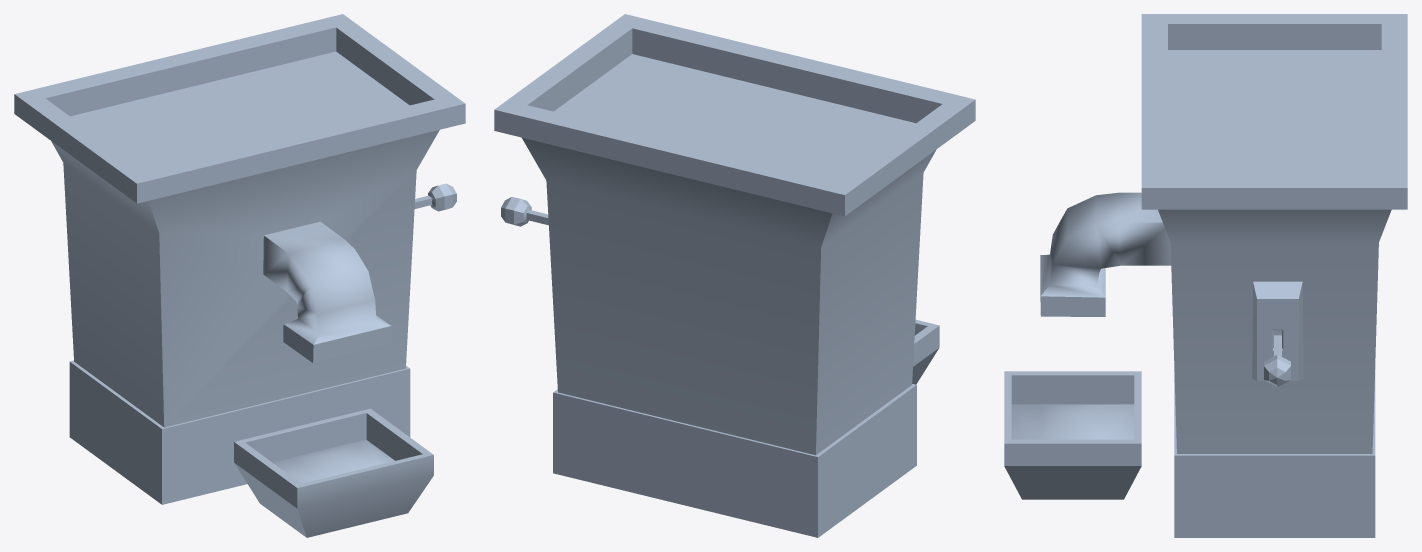
Rendered from FishHarvester.fbx.
The picture shows the model from 3 angles, left to right: view 1: azimuth 30°, elevation 25°; view 2: azimuth 150°, elevation 25°; view 3: azimuth 270°, elevation 25°; orthographic projection. The views are drawn at different scales.
Parts seen in each view (by area): view 1: Harvester, polySurface2; view 2: Harvester, polySurface2; view 3: Harvester, pCube6, polySurface2.
Boxes of the visible parts, x1,y1,x2,y2 form: Harvester: (14, 14, 465, 537); polySurface2: (414, 183, 456, 211); Harvester: (494, 14, 975, 537); polySurface2: (501, 197, 548, 226); Harvester: (1004, 14, 1407, 537); pCube6: (1252, 281, 1303, 380); polySurface2: (1264, 335, 1290, 386).
Size of the model in its own units: 1.98 by 1.7 by 1.67.
